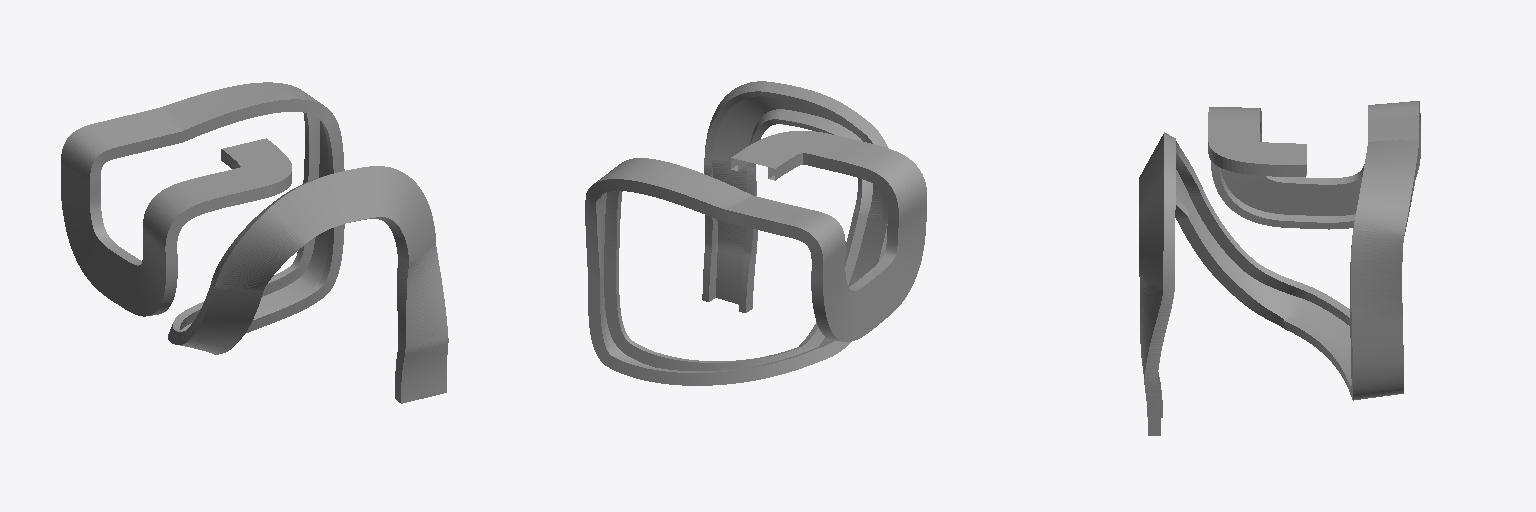
The model's file is path_v2.obj.
3 renders of one model, left to right at view 1: azimuth 30°, elevation 25°; view 2: azimuth 150°, elevation 25°; view 3: azimuth 270°, elevation 25°, orthographic.
Visible parts, largest first — view 1: Wall_proxy.001_Plane; view 2: Wall_proxy.001_Plane; view 3: Wall_proxy.001_Plane.
Boxes of the visible parts, <box> form: Wall_proxy.001_Plane: <box>61,82,448,403</box>; Wall_proxy.001_Plane: <box>585,81,926,385</box>; Wall_proxy.001_Plane: <box>1139,101,1420,435</box>.
Size of the model in its own units: 1.99 by 1.82 by 1.94.